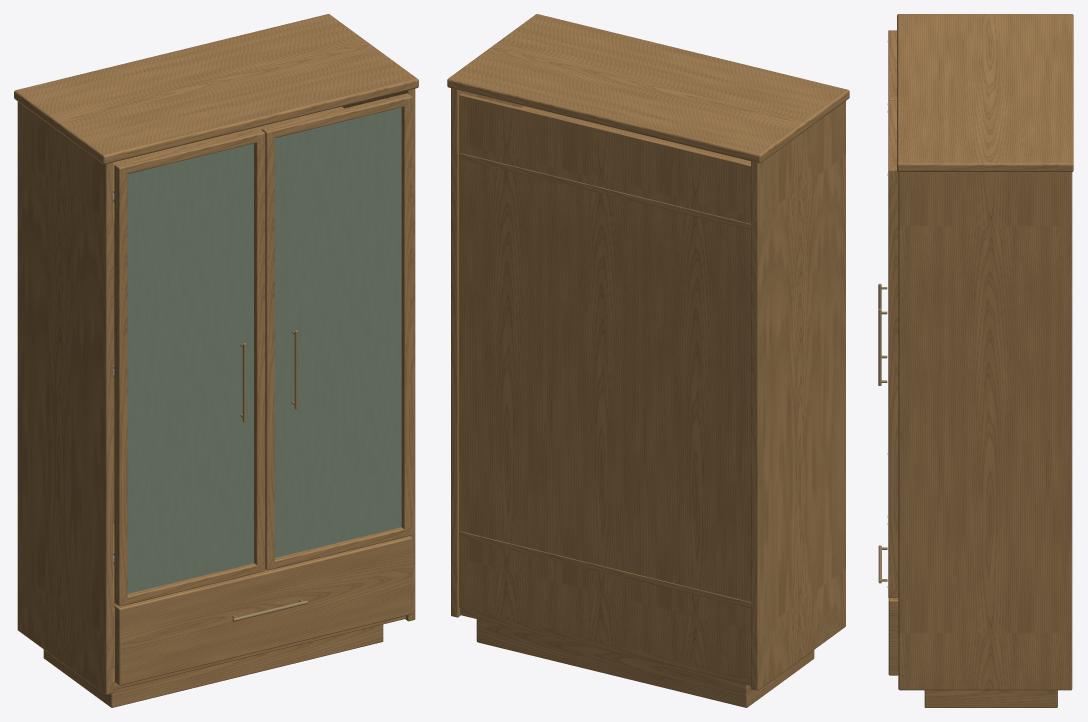
3 views of the same model, side by side, from view 1: azimuth 30°, elevation 25°; view 2: azimuth 150°, elevation 25°; view 3: azimuth 270°, elevation 25° (orthographic). The views are drawn at different scales.
Parts seen in each view (by area): view 1: Door 1 | linen panel, Door 0 | linen panel, Carcass | oak side, Carcass | crown, Base drawer | front, Door 0 | solid oak stile, Recessed structural plinth, Door 0 | solid oak stile.001, Door 1 | solid oak stile.001, Door 1 | solid oak stile, Carcass | oak side.001, Door 0 | solid oak rail.001 (+5 smaller); view 2: Carcass | inset back, Carcass | oak side, Carcass | crown, Recessed structural plinth, Carcass | oak side.001, Interior | upper shelf, Carcass | bottom, Interior | bottom shelf; view 3: Carcass | oak side.001, Carcass | crown, Door 1 | solid oak stile.001, Recessed structural plinth, Base drawer | front, Door 0 | solid oak rail.001, Door 1 | solid oak rail.001.
Boxes of the visible parts, x1=… form: Door 1 | linen panel: x1=275, y1=107, x2=401, y2=557; Door 0 | linen panel: x1=127, y1=143, x2=253, y2=593; Carcass | oak side: x1=17, y1=101, x2=113, y2=694; Carcass | crown: x1=14, y1=14, x2=418, y2=164; Base drawer | front: x1=114, y1=536, x2=412, y2=685; Door 0 | solid oak stile: x1=114, y1=163, x2=127, y2=606; Recessed structural plinth: x1=43, y1=624, x2=383, y2=707; Door 0 | solid oak stile.001: x1=254, y1=129, x2=265, y2=571; Door 1 | solid oak stile.001: x1=401, y1=93, x2=412, y2=535; Door 1 | solid oak stile: x1=261, y1=127, x2=274, y2=570; Carcass | oak side.001: x1=342, y1=88, x2=415, y2=621; Door 0 | solid oak rail.001: x1=119, y1=130, x2=260, y2=173; Carcass | inset back: x1=459, y1=93, x2=750, y2=678; Carcass | oak side: x1=751, y1=101, x2=845, y2=690; Carcass | crown: x1=447, y1=14, x2=849, y2=163; Recessed structural plinth: x1=476, y1=619, x2=814, y2=707; Carcass | oak side.001: x1=451, y1=88, x2=523, y2=617; Interior | upper shelf: x1=459, y1=106, x2=750, y2=229; Carcass | bottom: x1=460, y1=608, x2=750, y2=685; Interior | bottom shelf: x1=459, y1=531, x2=750, y2=608; Carcass | oak side.001: x1=898, y1=172, x2=1072, y2=690; Carcass | crown: x1=897, y1=14, x2=1073, y2=172; Door 1 | solid oak stile.001: x1=888, y1=167, x2=898, y2=597; Recessed structural plinth: x1=924, y1=690, x2=1057, y2=707; Base drawer | front: x1=888, y1=598, x2=898, y2=675; Door 0 | solid oak rail.001: x1=888, y1=32, x2=896, y2=97; Door 1 | solid oak rail.001: x1=888, y1=102, x2=896, y2=167.
Bounding box in the file's own units: 1.23 × 2.12 × 0.675.
5 materials, 2 textured.
